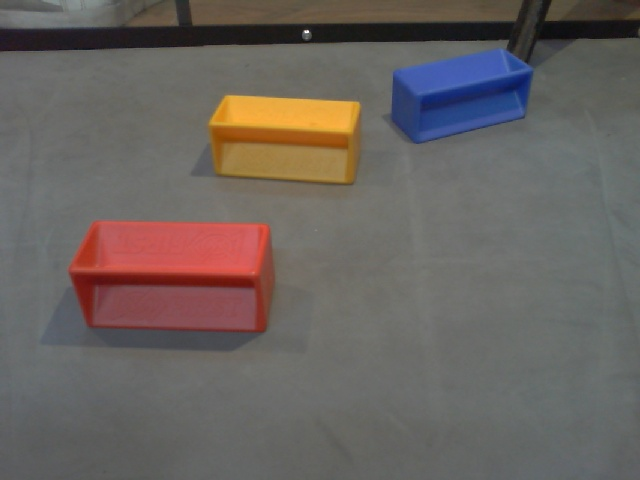BlueSample: (385, 46, 533, 143)
RedSample: (66, 216, 277, 338)
YellowSample: (205, 88, 367, 190)
